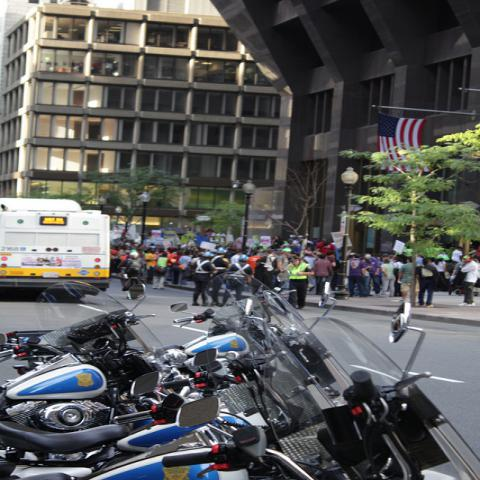motorcycle: (118, 268, 404, 450), (96, 375, 454, 476), (4, 308, 192, 477)
truck: (0, 198, 109, 299)
